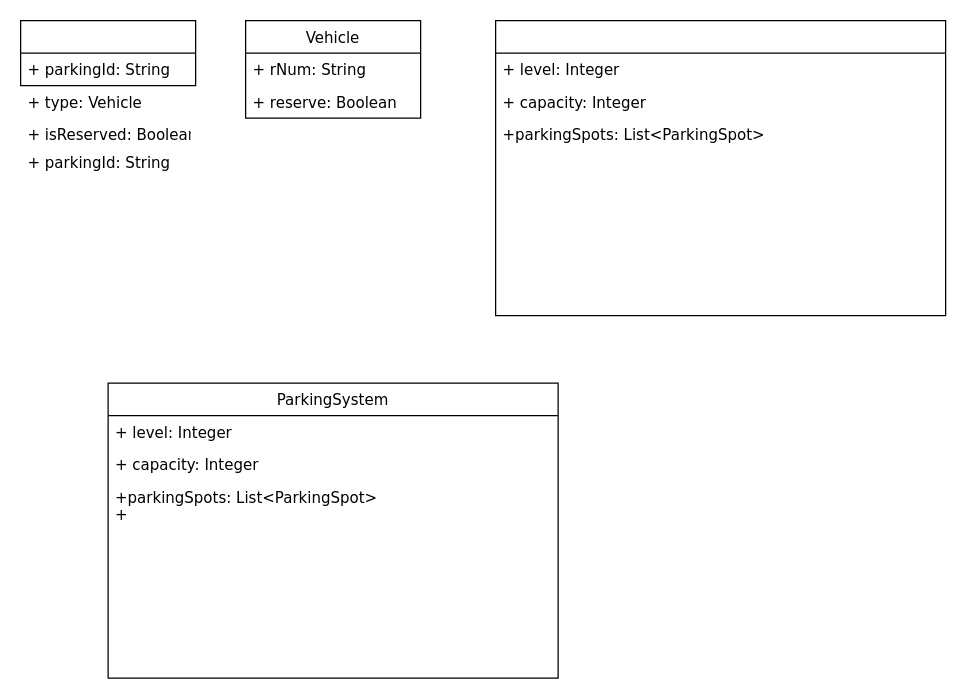
The diagram is 966 pixels wide and 699 high, and some of its shapes have lost their labels. Each missing label, with the box of its shape:
Floor: (494, 19, 946, 316)
ParkingSpot: (19, 19, 196, 86)
